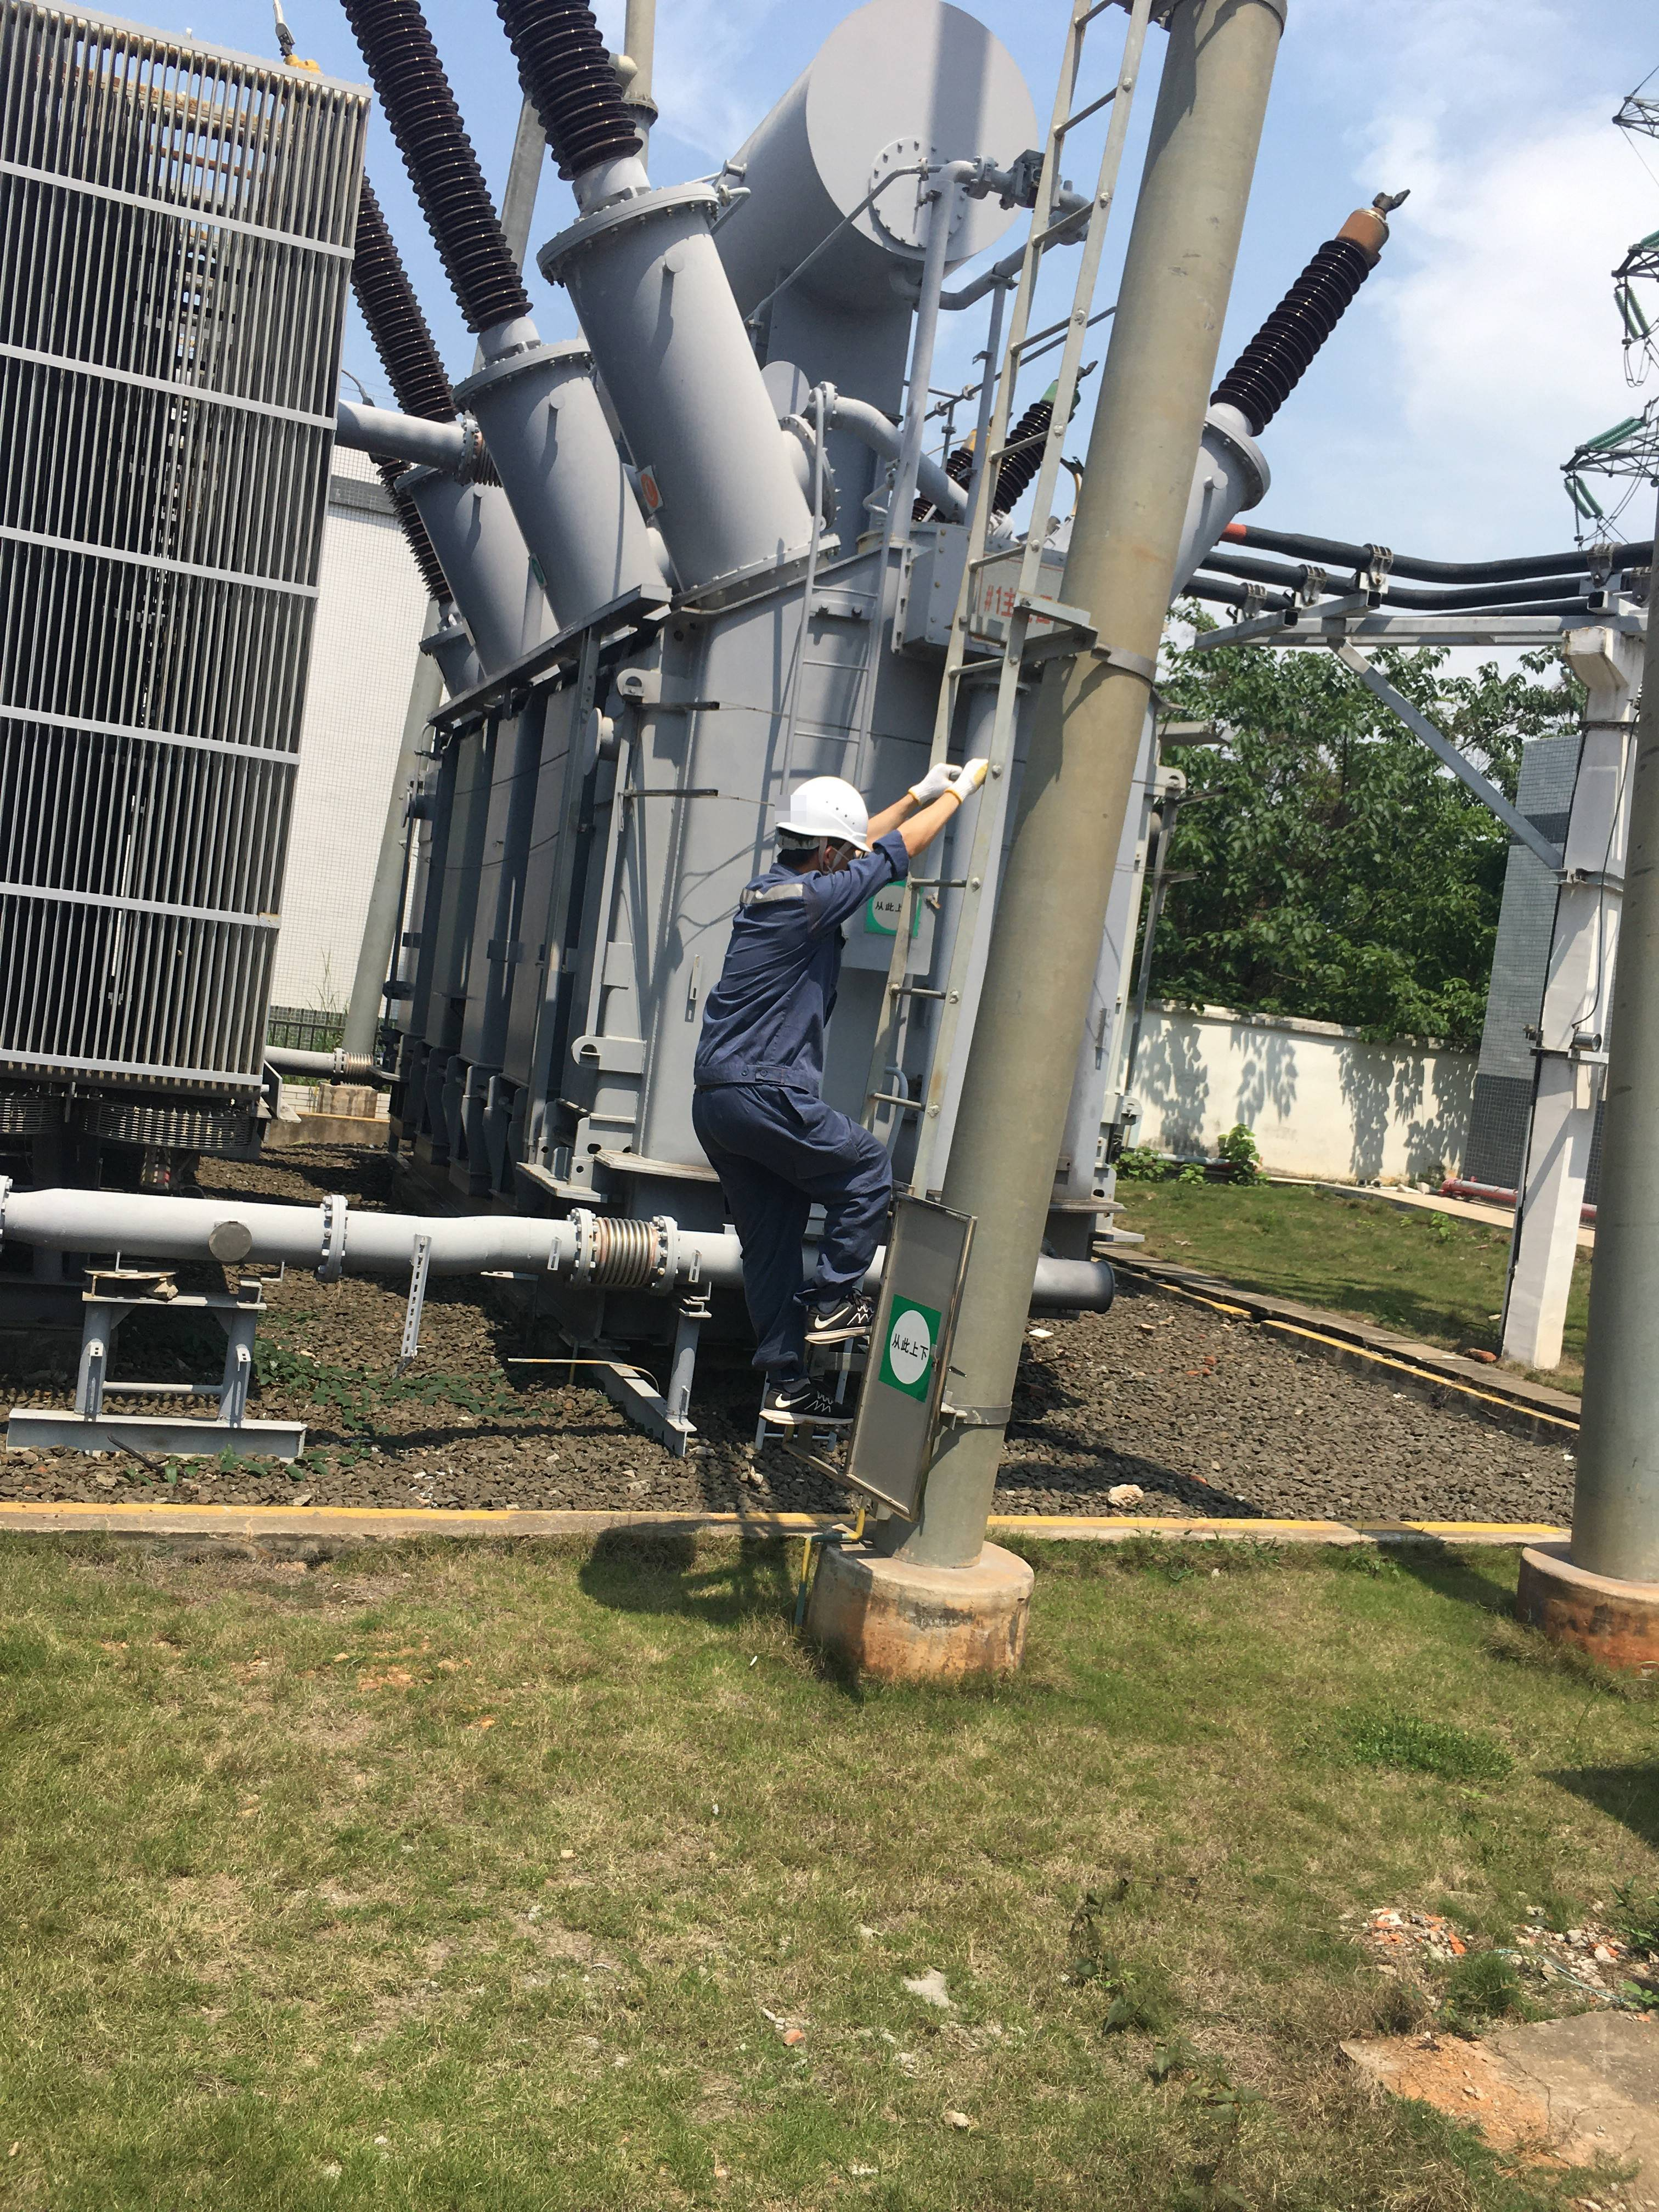downsuit: (694, 1109, 903, 1376)
upsuit: (678, 857, 904, 1096)
wrongtop: (856, 768, 979, 869)
